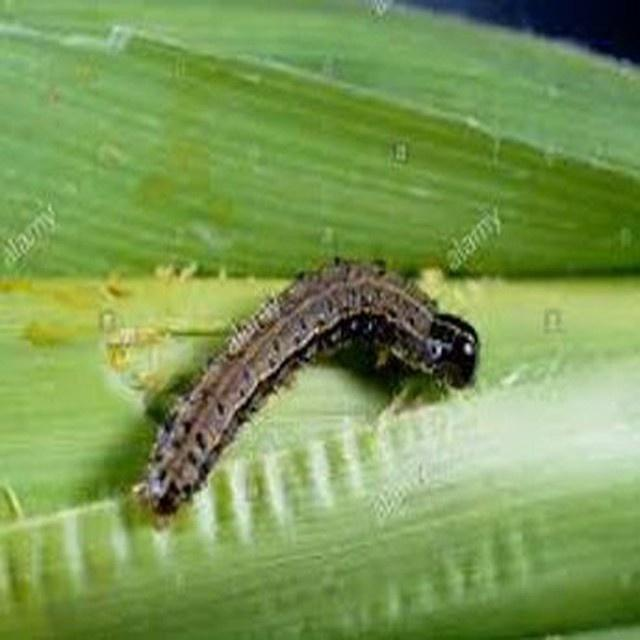gusano_cogollero: (138, 245, 480, 520)
